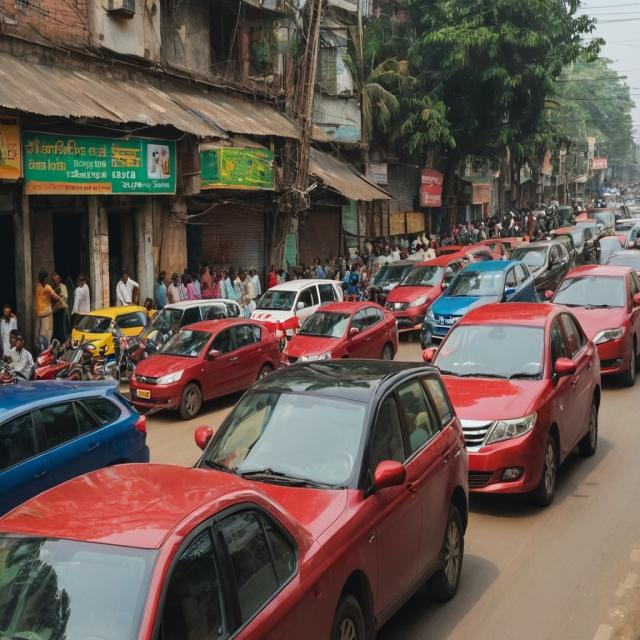blue: (0, 377, 145, 505), (424, 261, 539, 360)
red: (209, 370, 482, 628), (0, 467, 373, 640), (410, 302, 610, 518), (133, 317, 286, 431), (551, 264, 640, 394), (290, 297, 404, 380), (385, 260, 461, 336)
